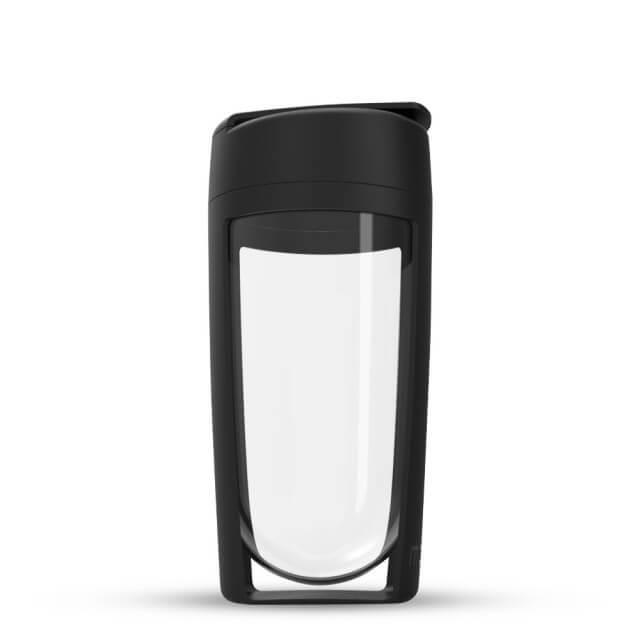Plastic: (209, 104, 433, 608)
